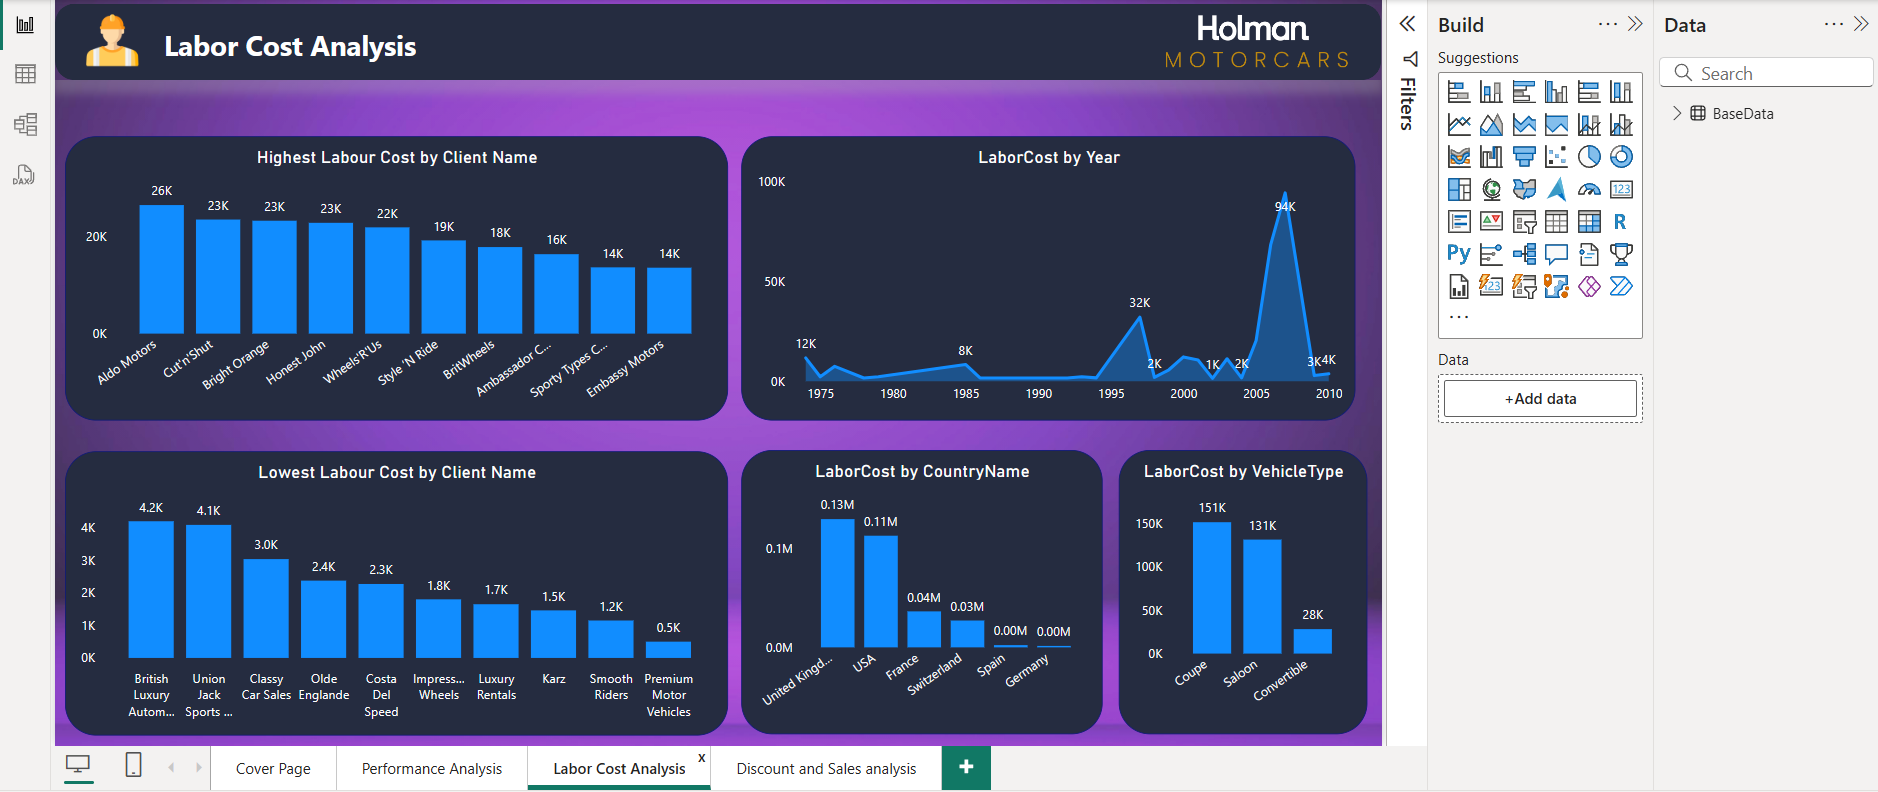

Layout of this report page (visuals, bound fields, positions):
{"tool":"powerbi","page":{"name":"Labor Cost Analysis","canvas":[1280,720],"ordinal":2},"visuals":[{"type":"clusteredColumnChart","title":"Lowest Labour Cost by Client Name","fields":{"Y":["BaseData.LaborCost"],"Category":["BaseData.ClientName"]},"box":[10,435.7,640,274.3],"z":0},{"type":"shape","box":[0,3.8,1280,73.8],"z":1000},{"type":"areaChart","fields":{"Y":["BaseData.LaborCost"],"Category":["BaseData.Registration_Date.Variation.Date Hierarchy.Year"]},"box":[662.9,131.4,592.9,274.3],"z":2000},{"type":"clusteredColumnChart","title":"Highest Labour Cost by Client Name","fields":{"Category":["BaseData.ClientName"],"Y":["BaseData.LaborCost"]},"box":[10,131.4,640,274.3],"z":3000},{"type":"columnChart","fields":{"Category":["BaseData.CountryName"],"Y":["BaseData.LaborCost"]},"box":[662.9,434.3,348.6,274.3],"z":4000},{"type":"image","box":[25.7,4.3,60,68.6],"z":5000},{"type":"textbox","box":[100,20,300,70],"z":6000},{"type":"columnChart","fields":{"Y":["BaseData.LaborCost"],"Category":["BaseData.VehicleType"]},"box":[1027.1,434.3,240,274.3],"z":7000},{"type":"image","box":[1064.3,10,191.4,60],"z":8000}]}

Visuals, with their boxes on the page's 1280x720 design canvas (x1, y1, x2, y2). These are canvas units, not pixel positions in the 1878x792 screenshot, which may show the page scaled, cropped or inside an application window:
"Lowest Labour Cost by Client Name" clusteredColumnChart: crop(10, 436, 650, 710)
shape: crop(0, 4, 1280, 78)
areaChart - BaseData.LaborCost x BaseData.Registration_Date.Variation.Date Hierarchy.Year: crop(663, 131, 1256, 406)
"Highest Labour Cost by Client Name" clusteredColumnChart: crop(10, 131, 650, 406)
columnChart - BaseData.CountryName x BaseData.LaborCost: crop(663, 434, 1012, 709)
image: crop(26, 4, 86, 73)
textbox: crop(100, 20, 400, 90)
columnChart - BaseData.LaborCost x BaseData.VehicleType: crop(1027, 434, 1267, 709)
image: crop(1064, 10, 1256, 70)
